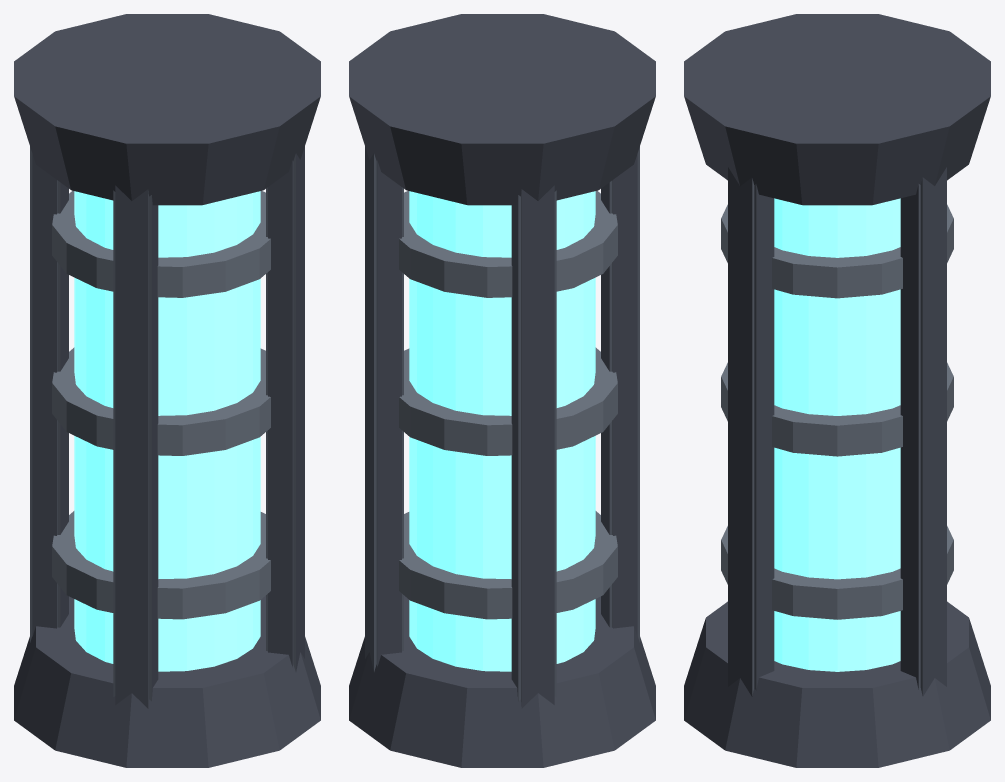
File: TILE_Pillar.glb
The picture shows the model from 3 angles, left to right: view 1: azimuth 30°, elevation 25°; view 2: azimuth 150°, elevation 25°; view 3: azimuth 270°, elevation 25°; orthographic projection.
Visible parts, largest first — view 1: TILE_Pillar; view 2: TILE_Pillar; view 3: TILE_Pillar.
Boxes of the visible parts, x1,y1,x2,y2 form: TILE_Pillar: (14, 14, 320, 767); TILE_Pillar: (349, 14, 655, 767); TILE_Pillar: (684, 14, 990, 767).
Size of the model in its own units: 2.16 by 4.86 by 2.16.
